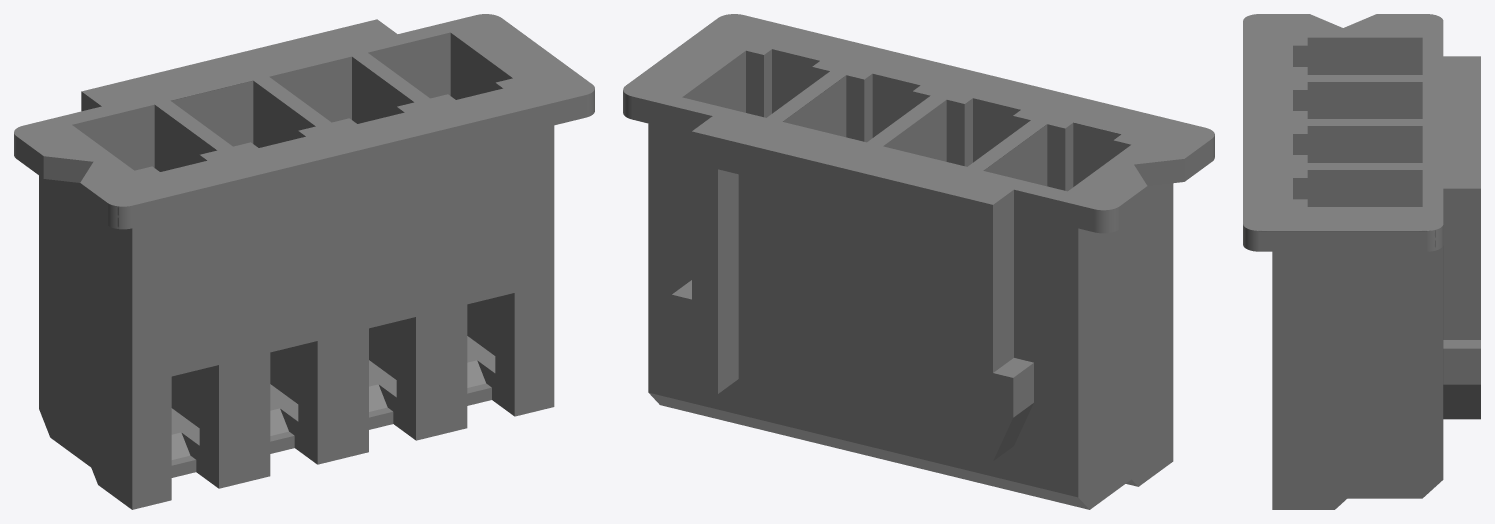
File: pin4Female.glb
3 renders of one model, left to right at view 1: azimuth 30°, elevation 25°; view 2: azimuth 150°, elevation 25°; view 3: azimuth 270°, elevation 25°, orthographic. The views are drawn at different scales.
Visible parts, largest first — view 1: Body5; view 2: Body5; view 3: Body5.
Part boxes in pixels (x1,y1,x2,y2): Body5: (14, 14, 594, 509); Body5: (623, 14, 1214, 509); Body5: (1243, 14, 1480, 509).
Bounding box in the file's own units: 0.0123 × 0.00775 × 0.0057.
Materials: 1 (1 with a texture image).
